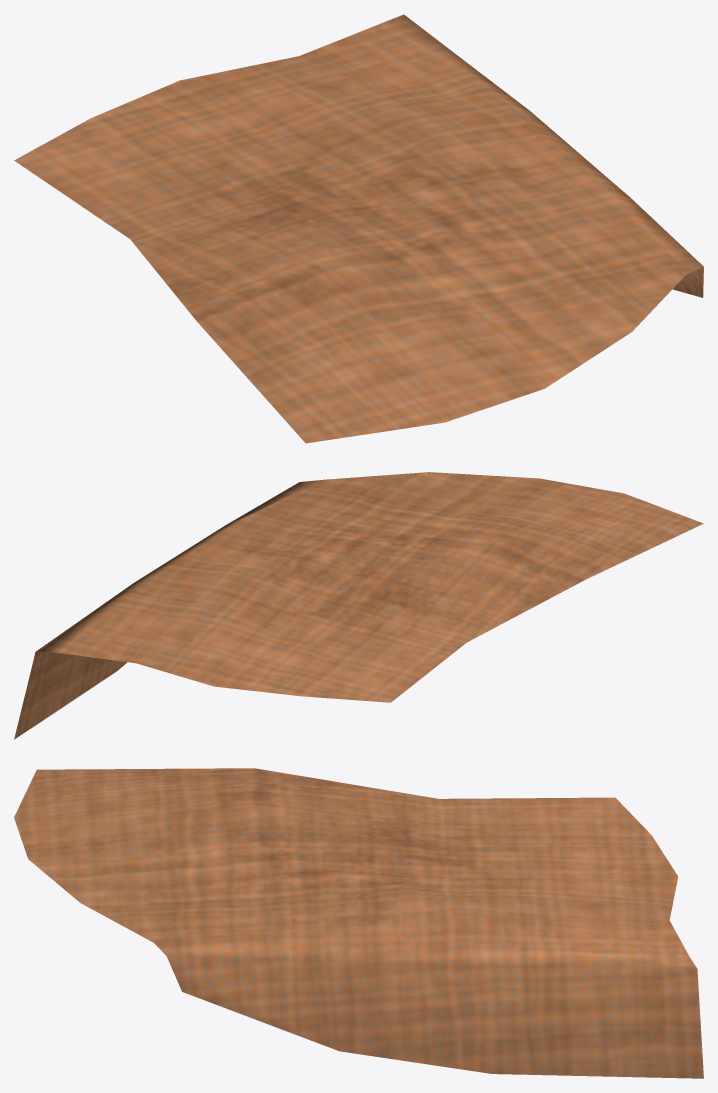
Rendered from cover.glb.
3 renders of one model, top to bottom at view 1: azimuth 30°, elevation 25°; view 2: azimuth 150°, elevation 25°; view 3: azimuth 270°, elevation 25°, orthographic. The views are drawn at different scales.
Visible parts, largest first — view 1: polySurface87_lambert24_0.001; view 2: polySurface87_lambert24_0.001; view 3: polySurface87_lambert24_0.001.
Part boxes in pixels (x1,y1,x2,y2): polySurface87_lambert24_0.001: (14, 14, 703, 443); polySurface87_lambert24_0.001: (14, 472, 703, 739); polySurface87_lambert24_0.001: (14, 768, 703, 1078).
Size of the model in its own units: 0.9027 by 0.2548 by 1.26.
1 material, 1 textured.
